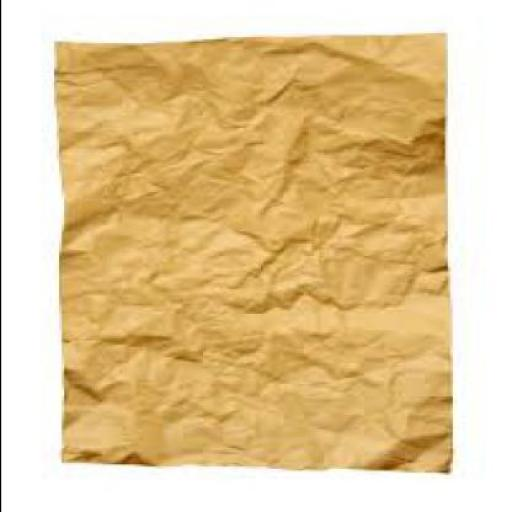paper: (46, 35, 446, 477)
